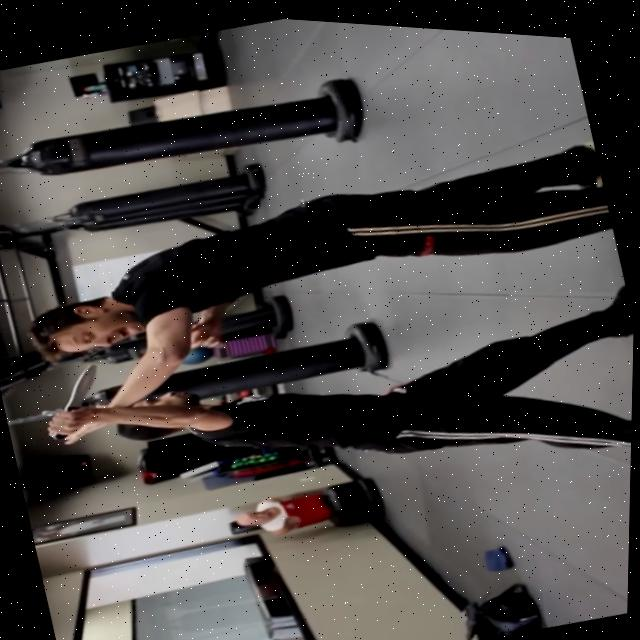knife: (59, 358, 108, 409)
